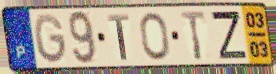9: (68, 9, 99, 68)
G: (32, 12, 69, 66)
O: (138, 11, 172, 63)
T: (179, 10, 208, 62), (106, 13, 131, 62)
Z: (209, 10, 249, 61)
